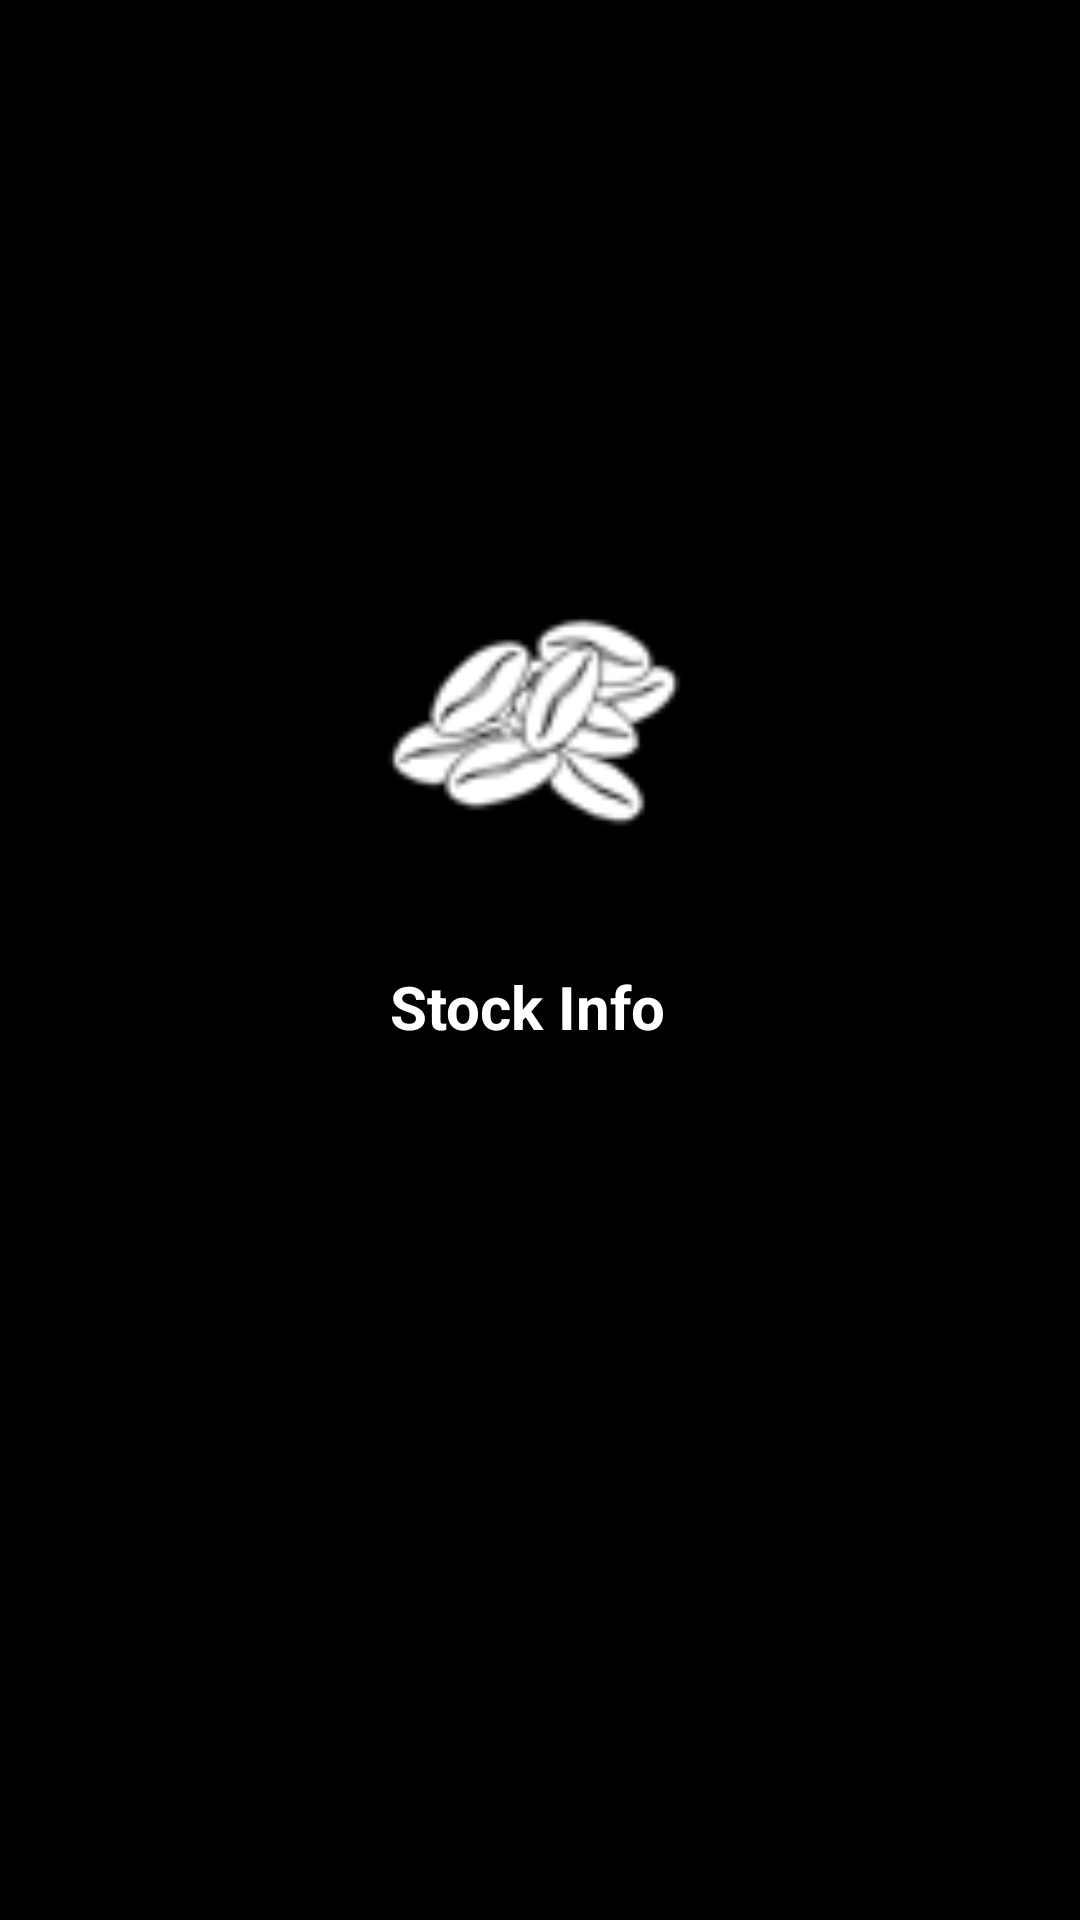

Icon click points for this 1080×1920 phone screenshot, format (x,y):
bean: (534,722)
